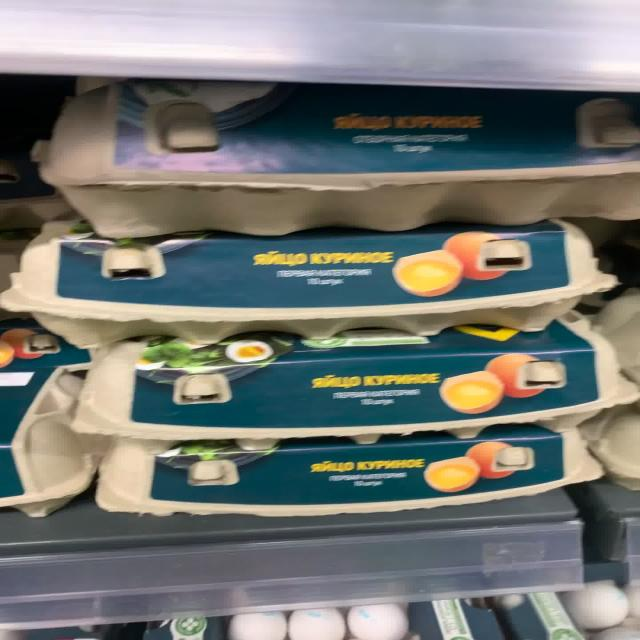egg box: (29, 77, 636, 236), (3, 212, 613, 353), (69, 314, 631, 440), (96, 425, 604, 517)
